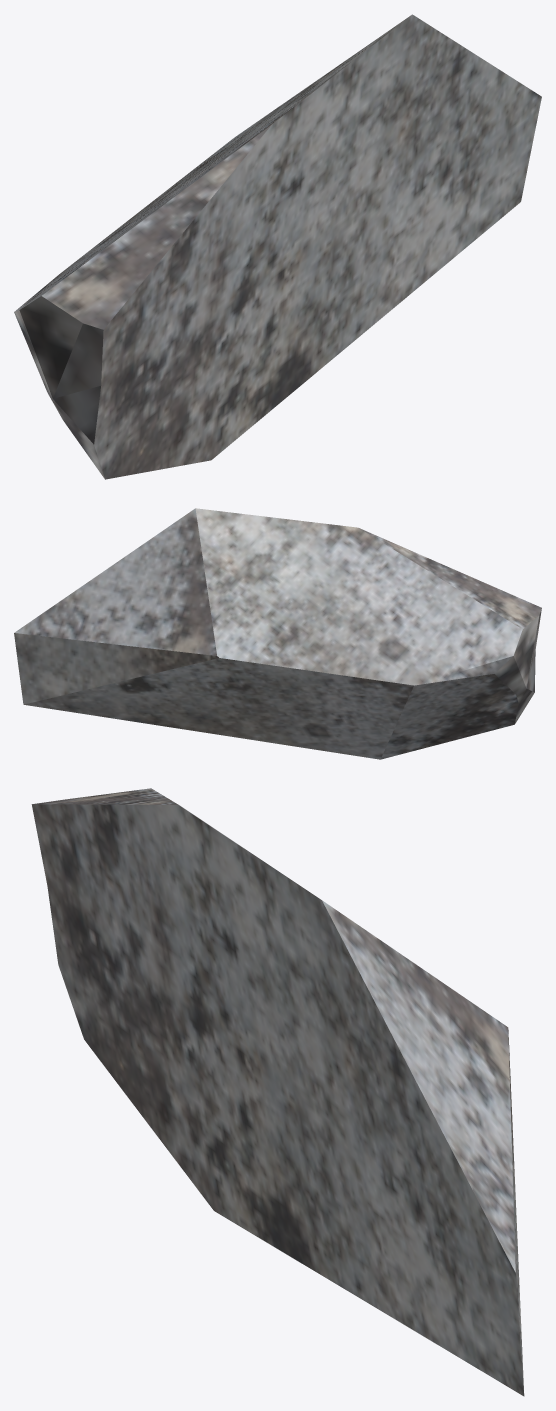
Rendered from Asteroid_Large_001_02_005_03_001.fbx.
3 renders of one model, top to bottom at view 1: azimuth 30°, elevation 25°; view 2: azimuth 150°, elevation 25°; view 3: azimuth 270°, elevation 25°, orthographic. The views are drawn at different scales.
Parts seen in each view (by area): view 1: Asteroid_Large_001_02_005_03_001; view 2: Asteroid_Large_001_02_005_03_001; view 3: Asteroid_Large_001_02_005_03_001.
Boxes of the visible parts, <box> form: Asteroid_Large_001_02_005_03_001: <box>14,14,541,479</box>; Asteroid_Large_001_02_005_03_001: <box>14,508,541,759</box>; Asteroid_Large_001_02_005_03_001: <box>31,788,524,1396</box>.
Bounding box in the file's own units: 8.2 × 4.34 × 4.16.
